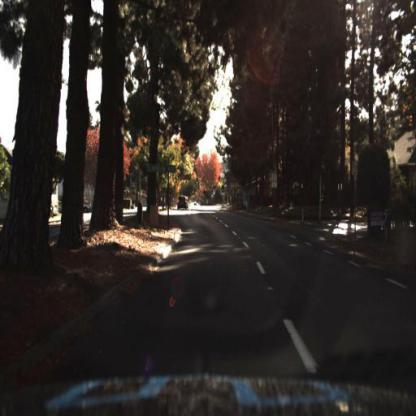car: (175, 194, 189, 212)
trafficLight: (218, 183, 228, 197)
trafficLight-Green: (194, 176, 201, 192)
